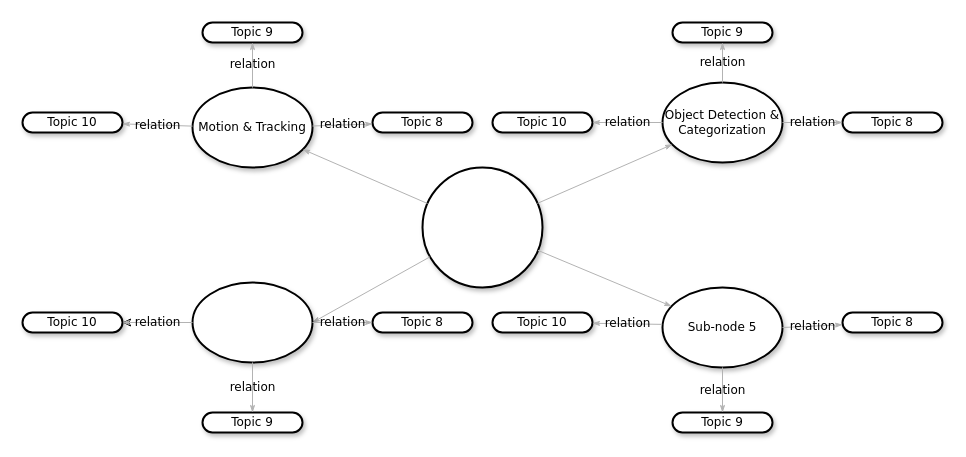
Image size: 966x457. Some labels were removed from this diagram. The centre of each missing label's shape, as x and y in pixels:
Intelligent Objects: [483,228]
Multi-modal Vision: [253,323]
